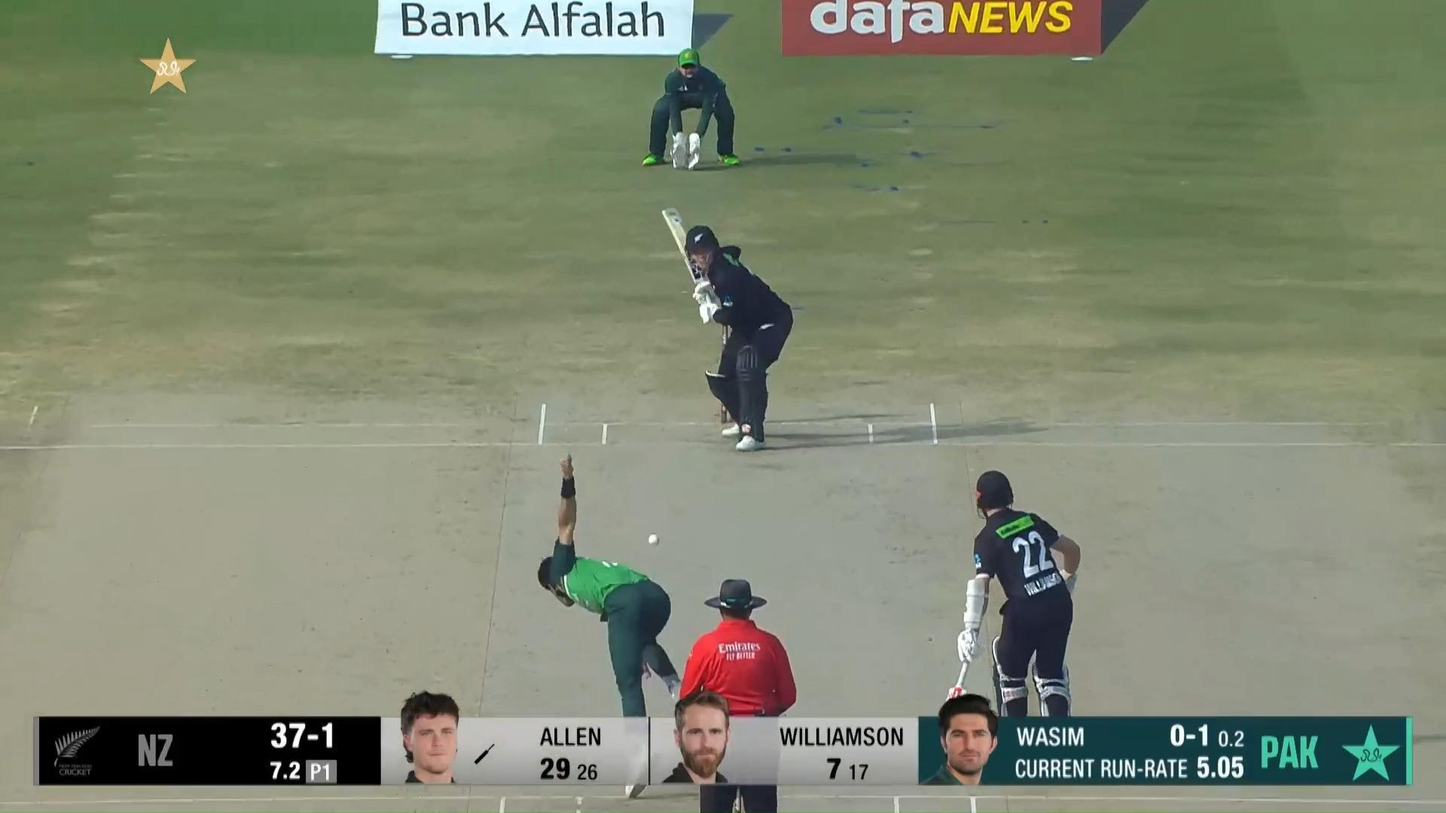BM 1: (662, 207, 794, 452)
BO: (535, 451, 684, 718)
